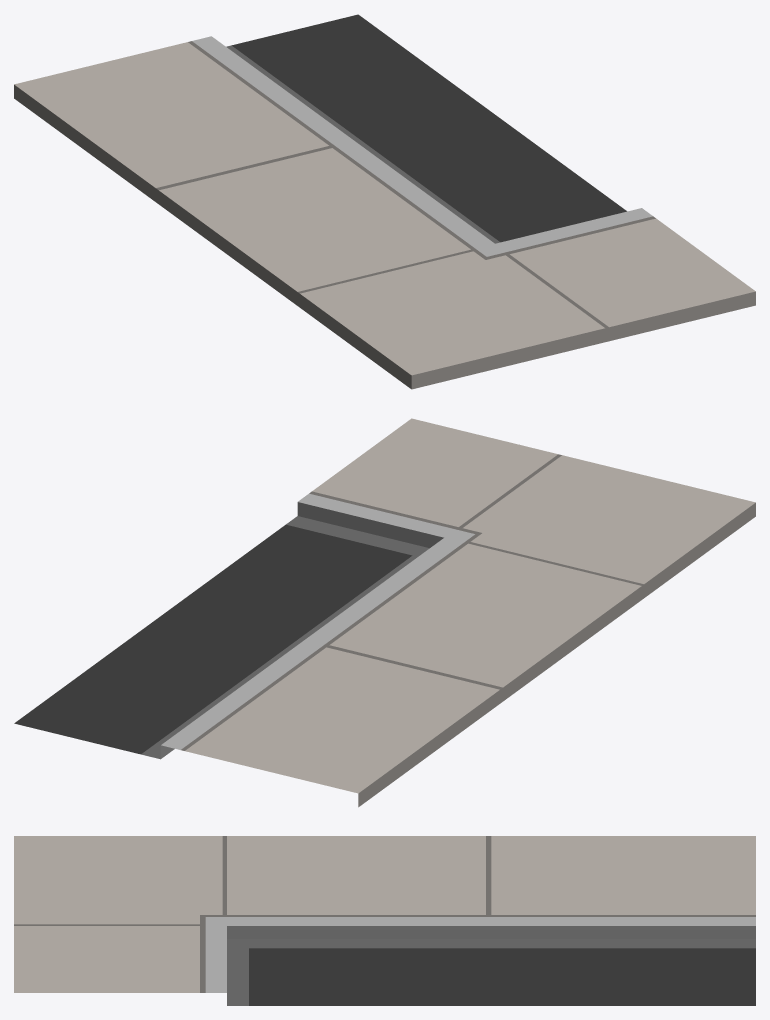
File: SA_Env_Road_Bend_Right_01.gltf
The picture shows the model from 3 angles, top to bottom: view 1: azimuth 30°, elevation 25°; view 2: azimuth 150°, elevation 25°; view 3: azimuth 270°, elevation 25°; orthographic projection. The views are drawn at different scales.
Visible parts, largest first — view 1: SA_Env_Road_Bend_Right_01; view 2: SA_Env_Road_Bend_Right_01; view 3: SA_Env_Road_Bend_Right_01.
Part boxes in pixels (left/top/right/bottom): SA_Env_Road_Bend_Right_01: left=14, top=14, right=755, bottom=389; SA_Env_Road_Bend_Right_01: left=14, top=418, right=755, bottom=807; SA_Env_Road_Bend_Right_01: left=14, top=836, right=755, bottom=1005.
Size of the model in its own units: 5 by 0.1948 by 10.
1 material, 1 textured.
